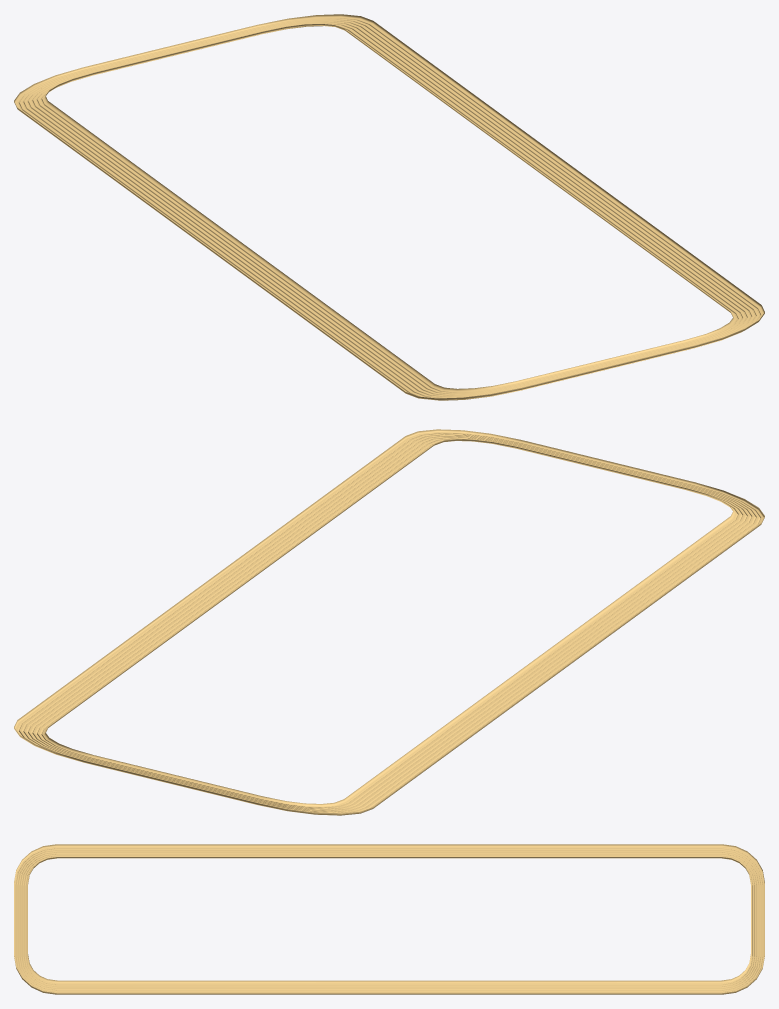
The model's file is StandardApartmentCeilingLight02_mesh.fbx.
3 views of the same model, one above another, from view 1: azimuth 30°, elevation 25°; view 2: azimuth 150°, elevation 25°; view 3: azimuth 270°, elevation 25° (orthographic). The views are drawn at different scales.
Parts seen in each view (by area): view 1: StandardApartmentCeilingLight02_mesh; view 2: StandardApartmentCeilingLight02_mesh; view 3: StandardApartmentCeilingLight02_mesh.
Boxes of the visible parts, left/top/right/bottom form: StandardApartmentCeilingLight02_mesh: left=14, top=14, right=764, bottom=400; StandardApartmentCeilingLight02_mesh: left=14, top=429, right=764, bottom=815; StandardApartmentCeilingLight02_mesh: left=14, top=844, right=764, bottom=994.
Bounding box in the file's own units: 127 × 1.19 × 271.
